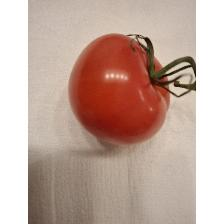Tomate: (60, 29, 194, 149)
